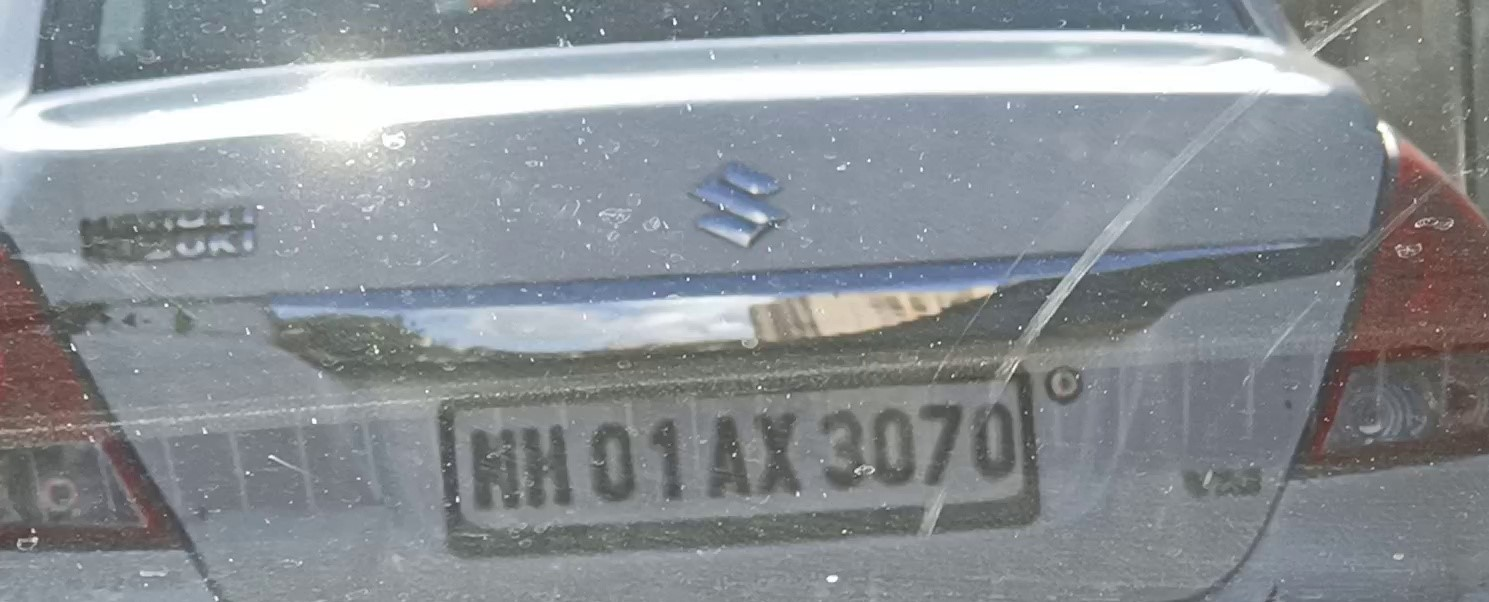MH01AX3070: (453, 378, 1023, 528)
